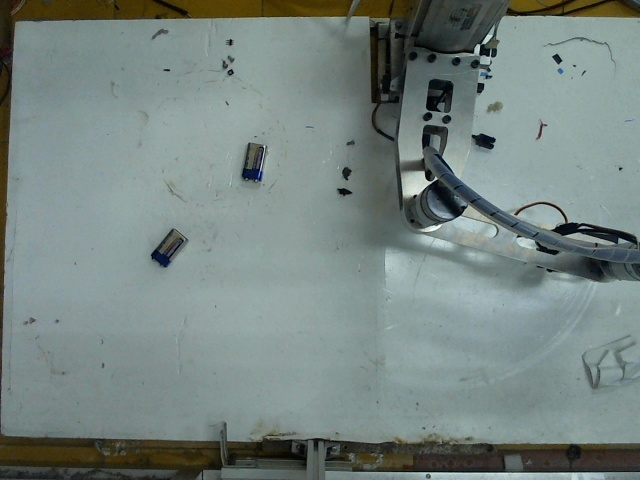battery: (145, 223, 190, 270), (237, 135, 270, 187)
